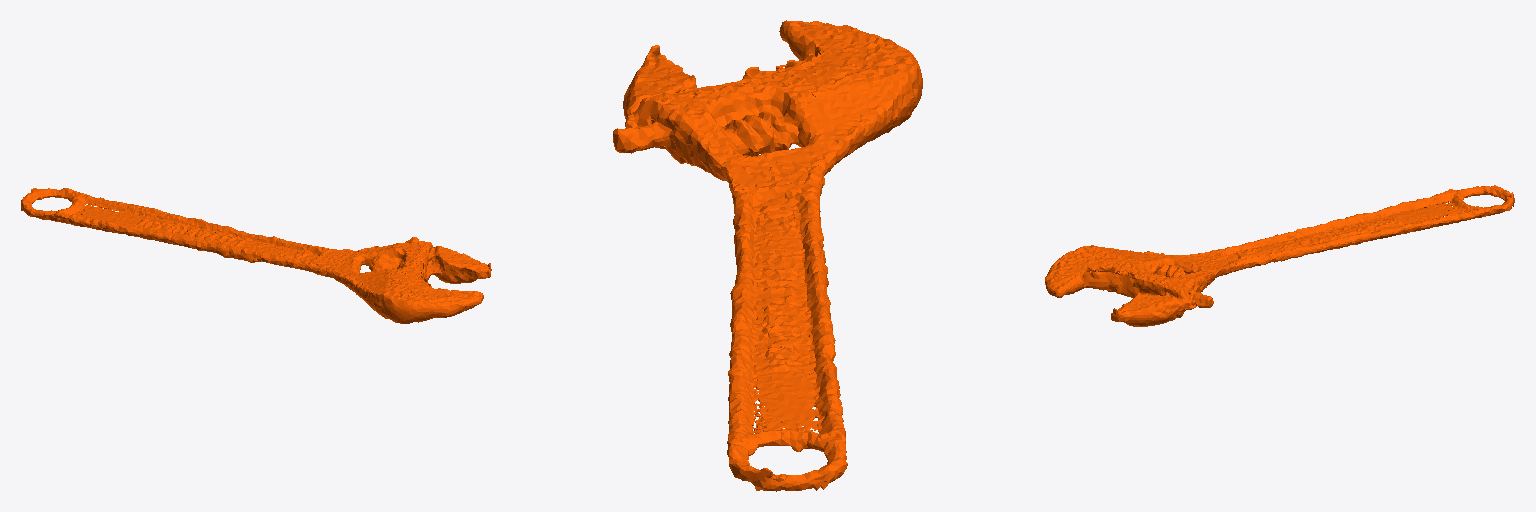
The robot description file, URDF, robot "042_adjustable_wrench":
<?xml version="1.0" ?>
<robot name="042_adjustable_wrench">
   <material name="obj_color">
      <color rgba="1.0 0.423529411765 0.0392156862745 1.0"/>
   </material>
   <link name="top">
      <inertial>
         <origin rpy="8.344660814108718e-06 8.393208366047764e-05 9.18871795087109e-05" xyz="0.01624457696303645 -0.030687485687243 0.0003351411211164204"/>
         <mass value="0.03885059424411455"/>
         <inertia ixx="6.60736037380284e-05" ixy="3.210687002268865e-05" ixz="-5.62045836549049e-07" iyy="2.624171288398744e-05" iyz="1.521925291056781e-06" izz="9.184860736128142e-05"/>
      </inertial>
      <visual>
         <origin rpy="0 0 0" xyz="0 0 0"/>
         <geometry>
            <mesh filename="top_watertight_tiny.stl" scale="1 1 1"/>
         </geometry>
         <material name="obj_color"/>
      </visual>
      <collision>
         <origin rpy="0 0 0" xyz="0 0 0"/>
         <geometry>
            <mesh filename="top_watertight_tiny.obj" scale="1 1 1"/>
         </geometry>
      </collision>
   </link>
   <link name="bottom">
      <inertial>
         <origin rpy="1.633333333199431e-08 1.633333333199431e-08 1.633333333362855e-08" xyz="0.3464080000000008 0.3464080000000008 0.3464080000000008"/>
         <mass value="0.0009800000000000017"/>
         <inertia ixx="1.633333333253906e-08" ixy="5.447480642029219e-19" ixz="5.447480642029219e-19" iyy="1.633333333253906e-08" iyz="5.447480642029219e-19" izz="1.633333333253906e-08"/>
      </inertial>
      <visual>
         <origin rpy="0 0 0" xyz="0 0 0"/>
         <geometry>
            <mesh filename="bottom_watertight_tiny.stl" scale="1 1 1"/>
         </geometry>
         <material name="obj_color"/>
      </visual>
   </link>
   <joint name="rotation" type="revolute">
      <origin xyz="0 0 0"/>
      <axis xyz="0 0 -1"/>
      <parent link="bottom"/>
      <child link="top"/>
      <dynamics damping="1.0" friction="1.0"/>
      <limit effort="0.1" velocity="0.1" lower="0" upper="0.001"/>
   </joint>
</robot>

--- Facts derived from the render (not from the file) ---
Views: 3 orthographic renders of the robot side by side, from view 1: azimuth 30°, elevation 25°; view 2: azimuth 150°, elevation 25°; view 3: azimuth 270°, elevation 25°.
Robot: 042_adjustable_wrench — 2 links, 1 joints (1 revolute); root link bottom; default pose: all joints at 0.
Visible links, largest first — view 1: top; view 2: top; view 3: top.
Boxes of the visible links, x1=… form: top: x1=21, y1=188, x2=491, y2=323; top: x1=613, y1=20, x2=922, y2=491; top: x1=1045, y1=185, x2=1514, y2=326.
Size in the robot's own frame: 0.1248 by 0.1811 by 0.0147 metres.
1 mesh visuals loaded from 2 distinct referenced files (1 binary STL); not drawn: 1 (reference not matched to a file when rendering).
